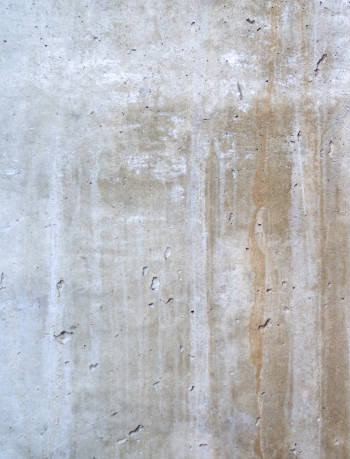Corrosion: (205, 1, 350, 459), (61, 98, 192, 459)
